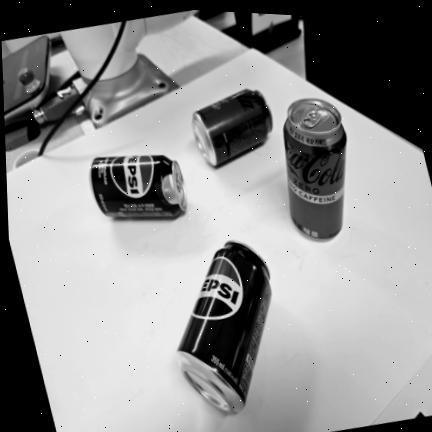can_coke_decaf: (283, 98, 347, 240)
can_coke_zero: (192, 90, 272, 166)
can_pepsi: (177, 242, 272, 412)
can_pepsi_zero: (90, 155, 187, 217)
